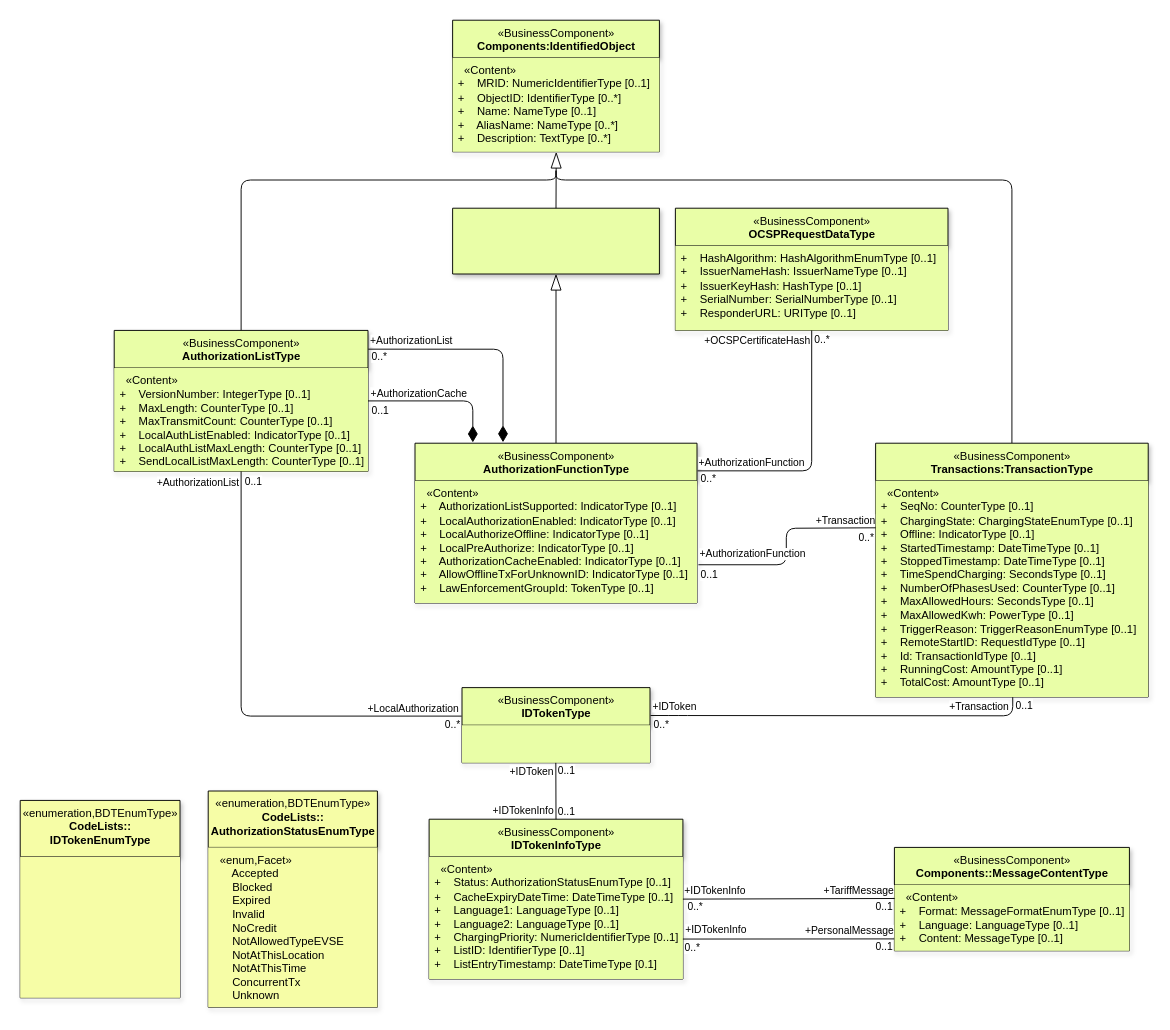
This 1170x1030 diagram has some shape labels left out. The shapes that lost their labels are listed below. From the top down, each one's centre as x and y in pixels, then its label:
(x=556, y=242): « BusinessComponent » RootModel::DeviceFunctionType
(x=556, y=743): + IDToken: TokenType [0..1] + Type: IDTokenEnumType [0..1]
(x=100, y=926): « enum,Facet » Central eMAID ISO14443 ISO15693 Local NoAuthorization KeyCode
